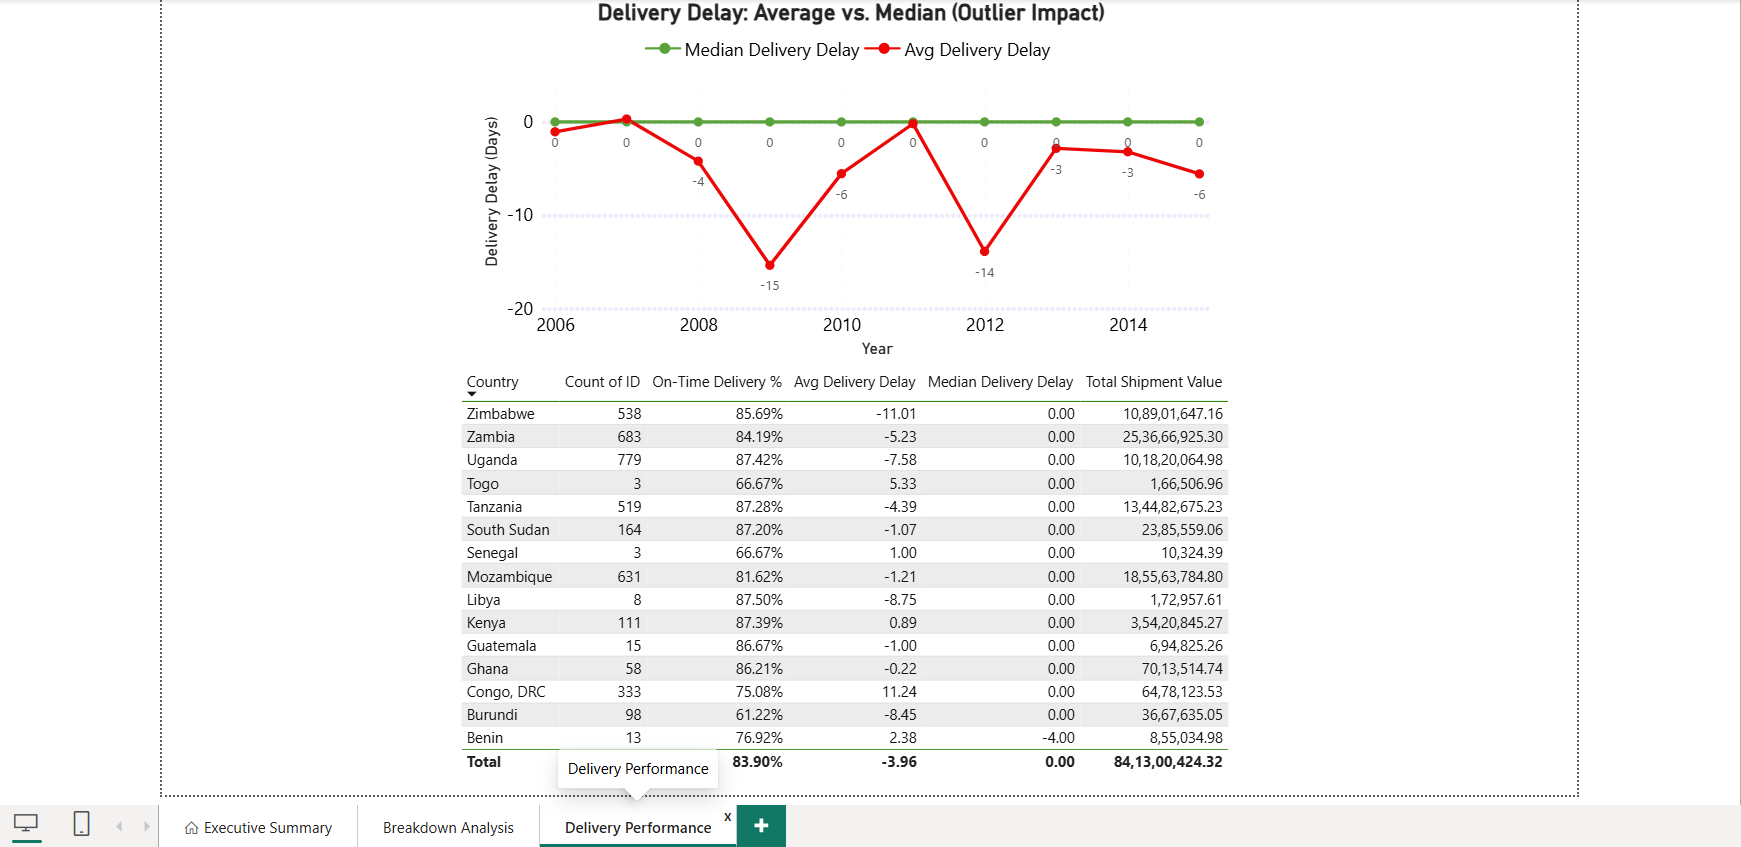

The dashboard page shown, as its layout file describes it:
{"tool":"powerbi","page":{"name":"Delivery Performance","canvas":[1280,720],"ordinal":2},"visuals":[{"type":"lineChart","title":"Delivery Delay: Average vs. Median (Outlier Impact)","fields":{"Category":["cleaned_data.Delivery Year"],"Y":["cleaned_data.Median Delivery Delay","cleaned_data.Avg Delivery Delay"]},"box":[284.4,0,676.6,329.9],"z":0},{"type":"tableEx","fields":{"Values":["cleaned_data.Country","CountNonNull(cleaned_data.ID)","cleaned_data.On-Time Delivery %","cleaned_data.Avg Delivery Delay","cleaned_data.Median Delivery Delay","cleaned_data.Total Shipment Value"]},"box":[264.9,329.9,749.4,389.6],"z":1}]}

Visuals, with their boxes on the page's 1280x720 design canvas (x1, y1, x2, y2). These are canvas units, not pixel positions in the 1741x847 screenshot, which may show the page scaled, cropped or inside an application window:
"Delivery Delay: Average vs. Median (Outlier Impact)" lineChart: (284,0,961,330)
tableEx - cleaned_data.Country x CountNonNull(cleaned_data.ID): (265,330,1014,720)
